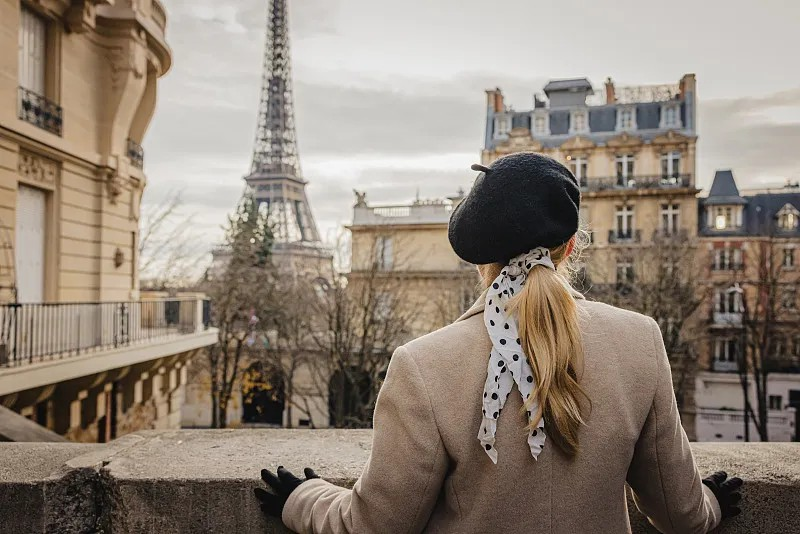Eiffel: (194, 1, 342, 320)
